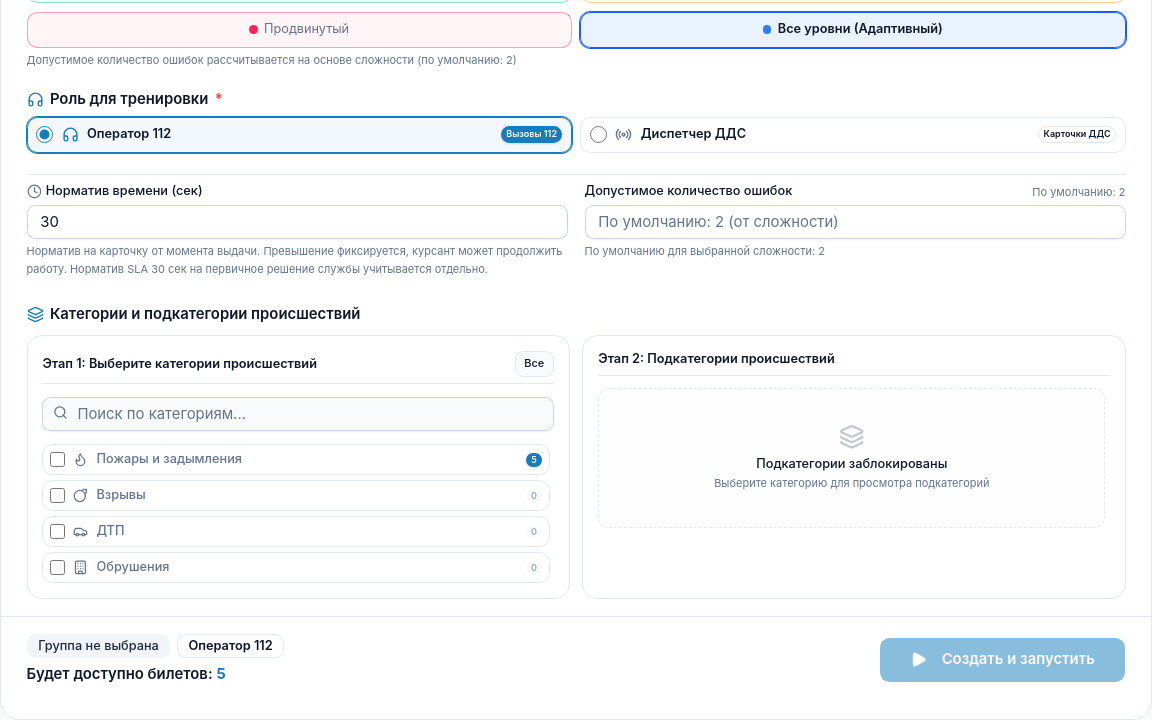
it: ТЗ 41: Запуск урока (Создание сессии) - Настройка и UI › should not show "По умолчанию используются все категории" and should show "Сбросить фильтры" when filtered
(page scrolled)
Expected: the button "Сбросить фильтры" is not shown
Expected: the label "Пожары и задымления 5" is shown, left=42, top=444, right=550, bottom=475
Select category "Пожары и задымления"
Click the checkbox labelled "Пожары и задымления 5" at (57, 460), box left=50, top=452, right=65, bottom=467
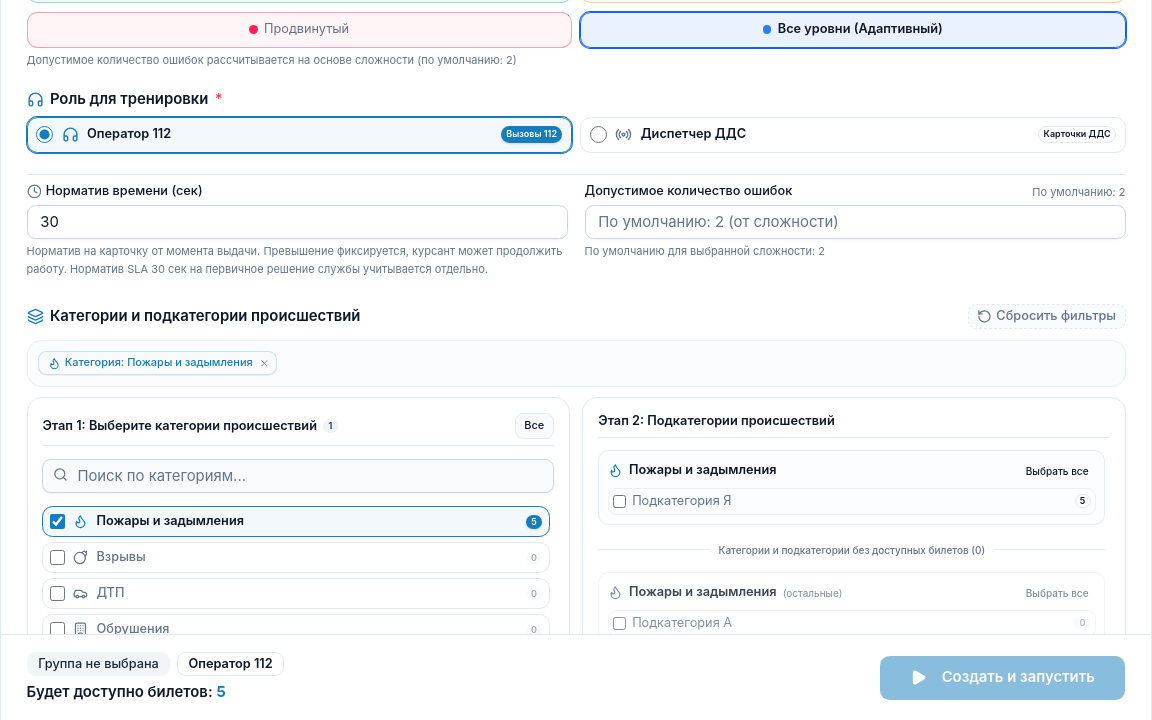
Now the button "Сбросить фильтры" is shown
Now the label "Подкатегория Я 5" is shown, box left=608, top=488, right=1096, bottom=515
Now the label "Подкатегория А 0" is shown, box left=608, top=610, right=1096, bottom=637
Click "Сбросить фильтры"
Click the button "Сбросить фильтры" at (1047, 316), box left=968, top=304, right=1126, bottom=329
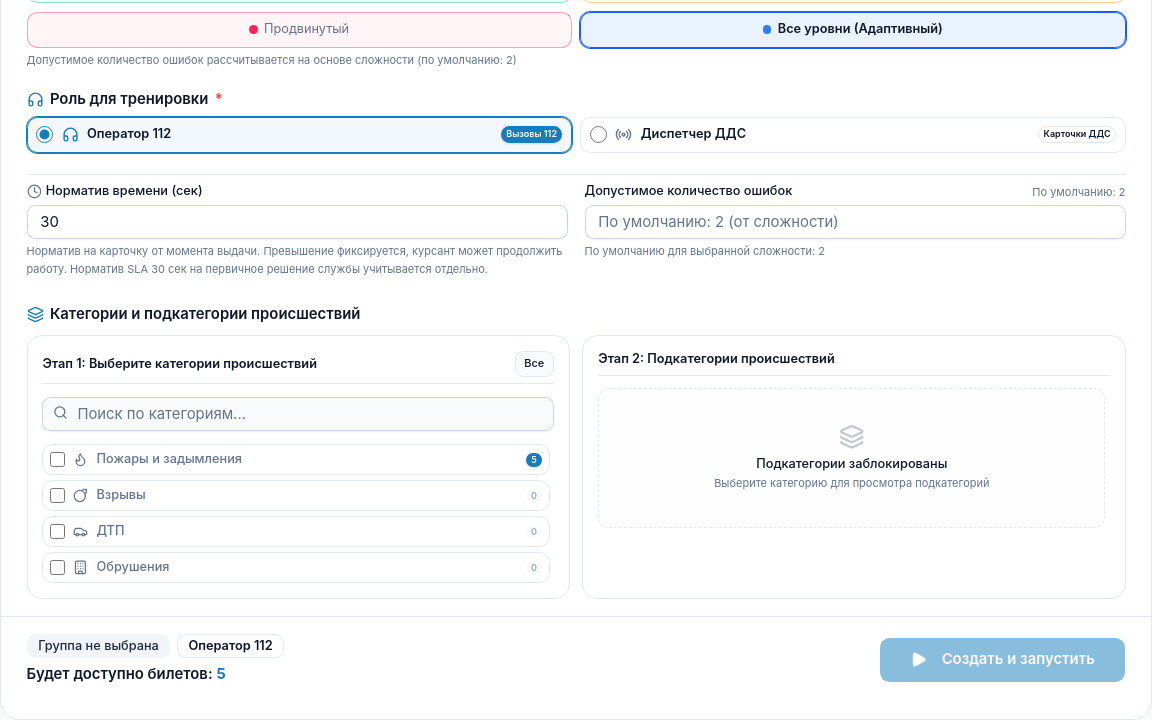
Now the text "Подкатегории заблокированы" is shown, box left=756, top=456, right=947, bottom=473
Now the button "Сбросить фильтры" is gone
